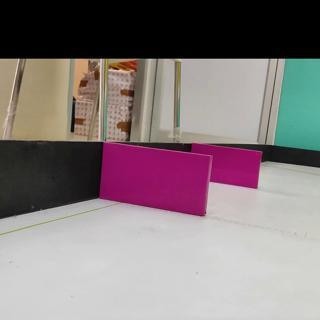xparking: (99, 142, 211, 216), (219, 151, 257, 185)
